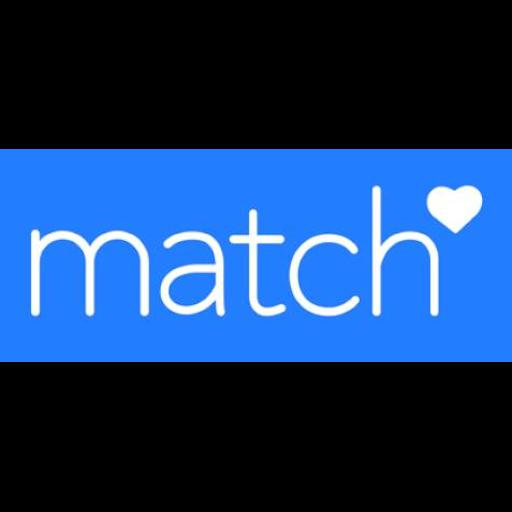Match: (0, 149, 512, 362)
